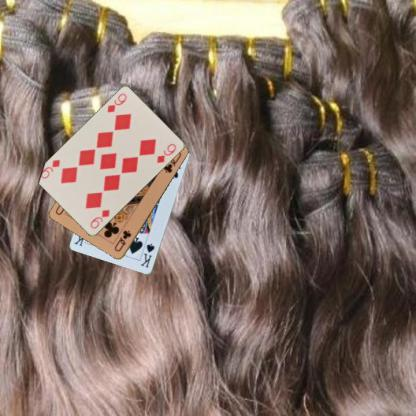9d: (104, 91, 128, 114), (88, 207, 111, 230)
Ks: (138, 241, 156, 269)
Qc: (112, 228, 132, 253)
